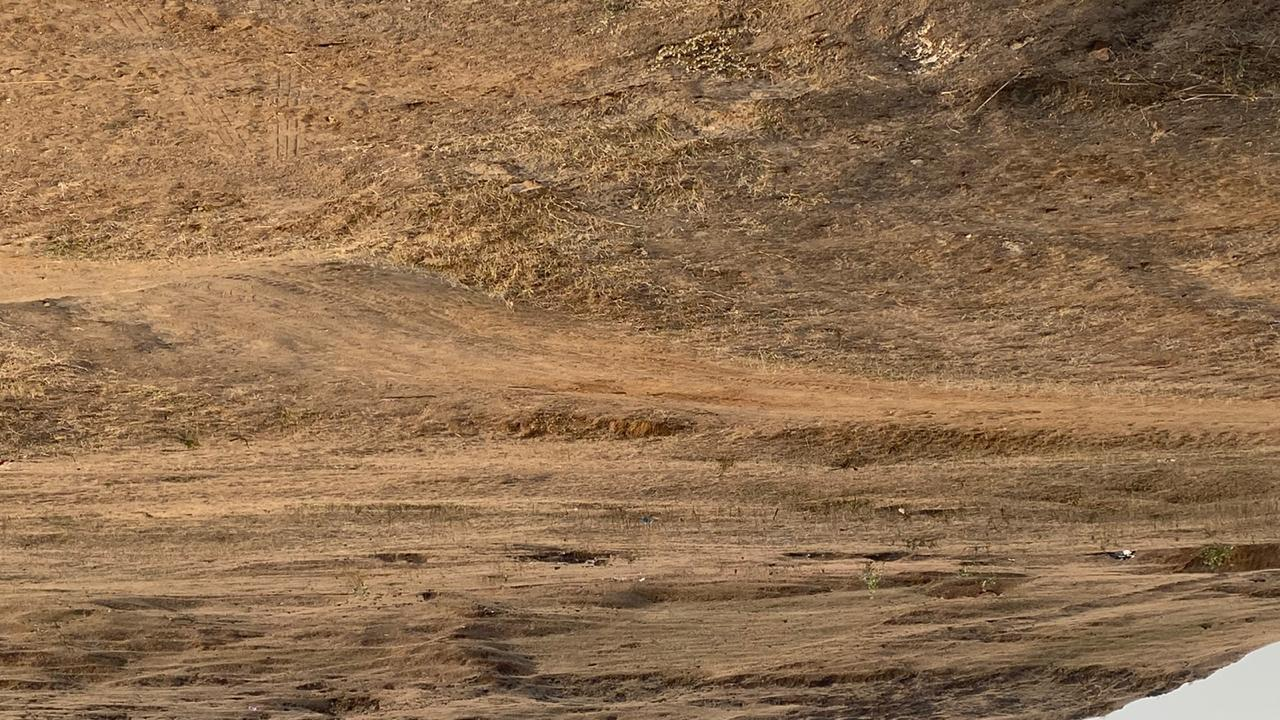vehicle_track: (112, 254, 1280, 427)
